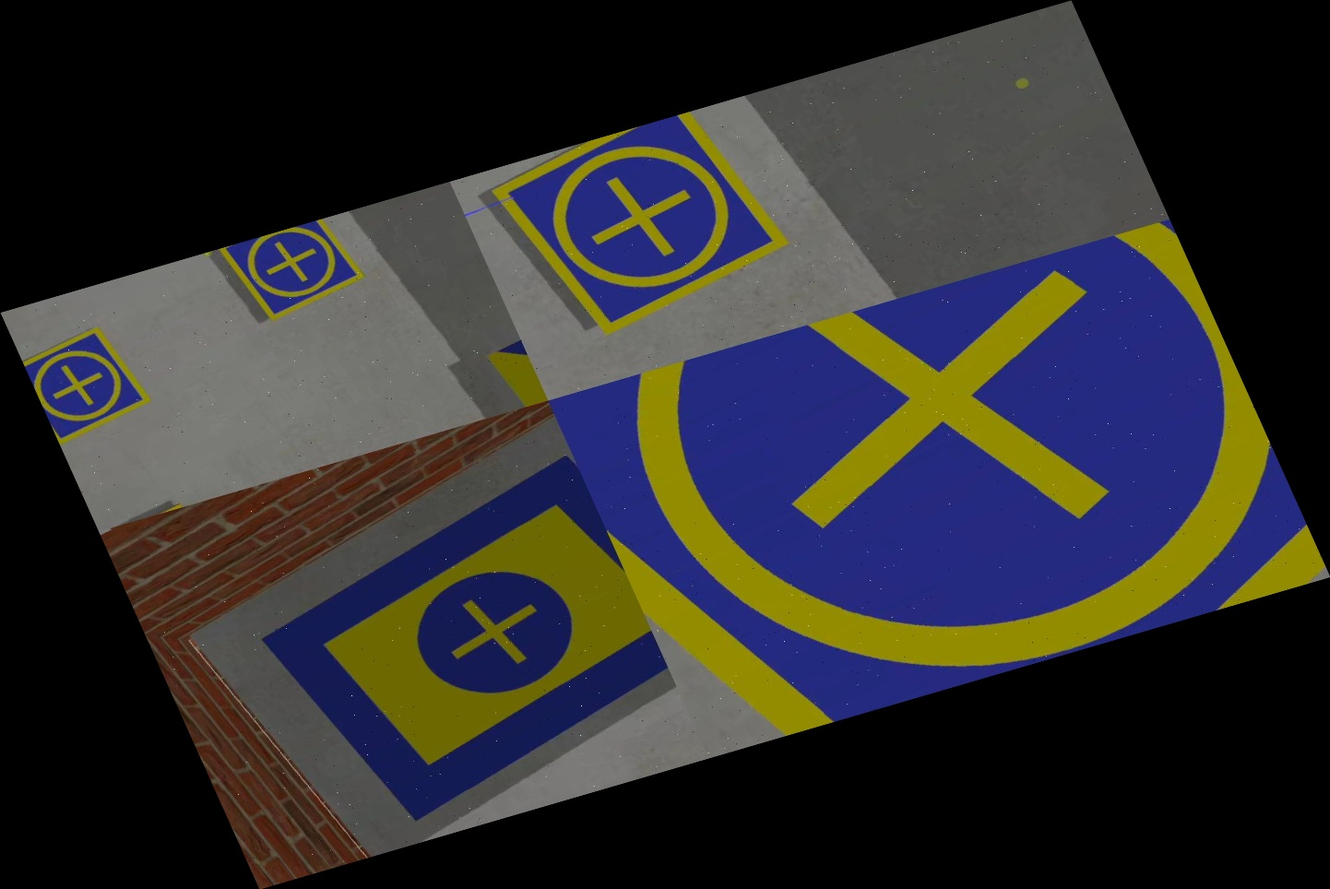large_base: (213, 447, 702, 845)
small_base: (548, 219, 1330, 757), (478, 100, 809, 350), (17, 318, 162, 448), (214, 213, 375, 329)
